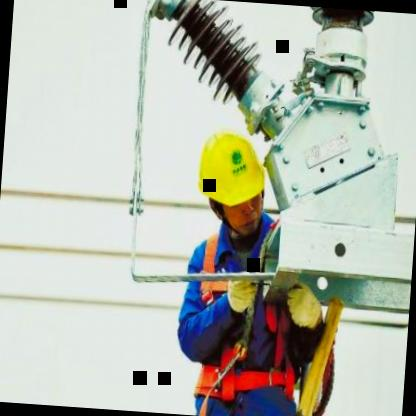helmet: (190, 110, 274, 250)
